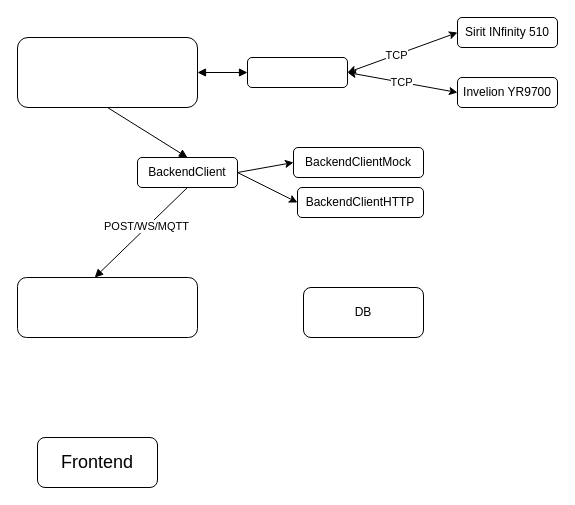
The diagram is 575 pixels wide and 505 high, and some of its shapes have lost their labels. Here are the shapes that lost their labels. From the top down, the centre of each, then its label:
At point 107,72: "Receiver racetag-reader-service".
At point 297,72: "ReaderClient".
At point 107,307: "Backend racetag-backend".
